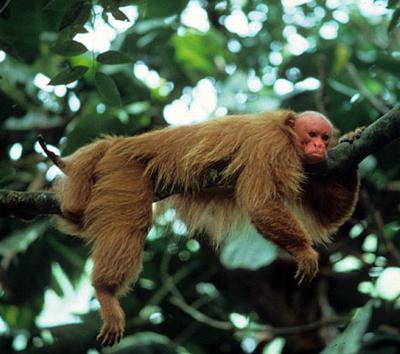monkey: (50, 110, 346, 348)
